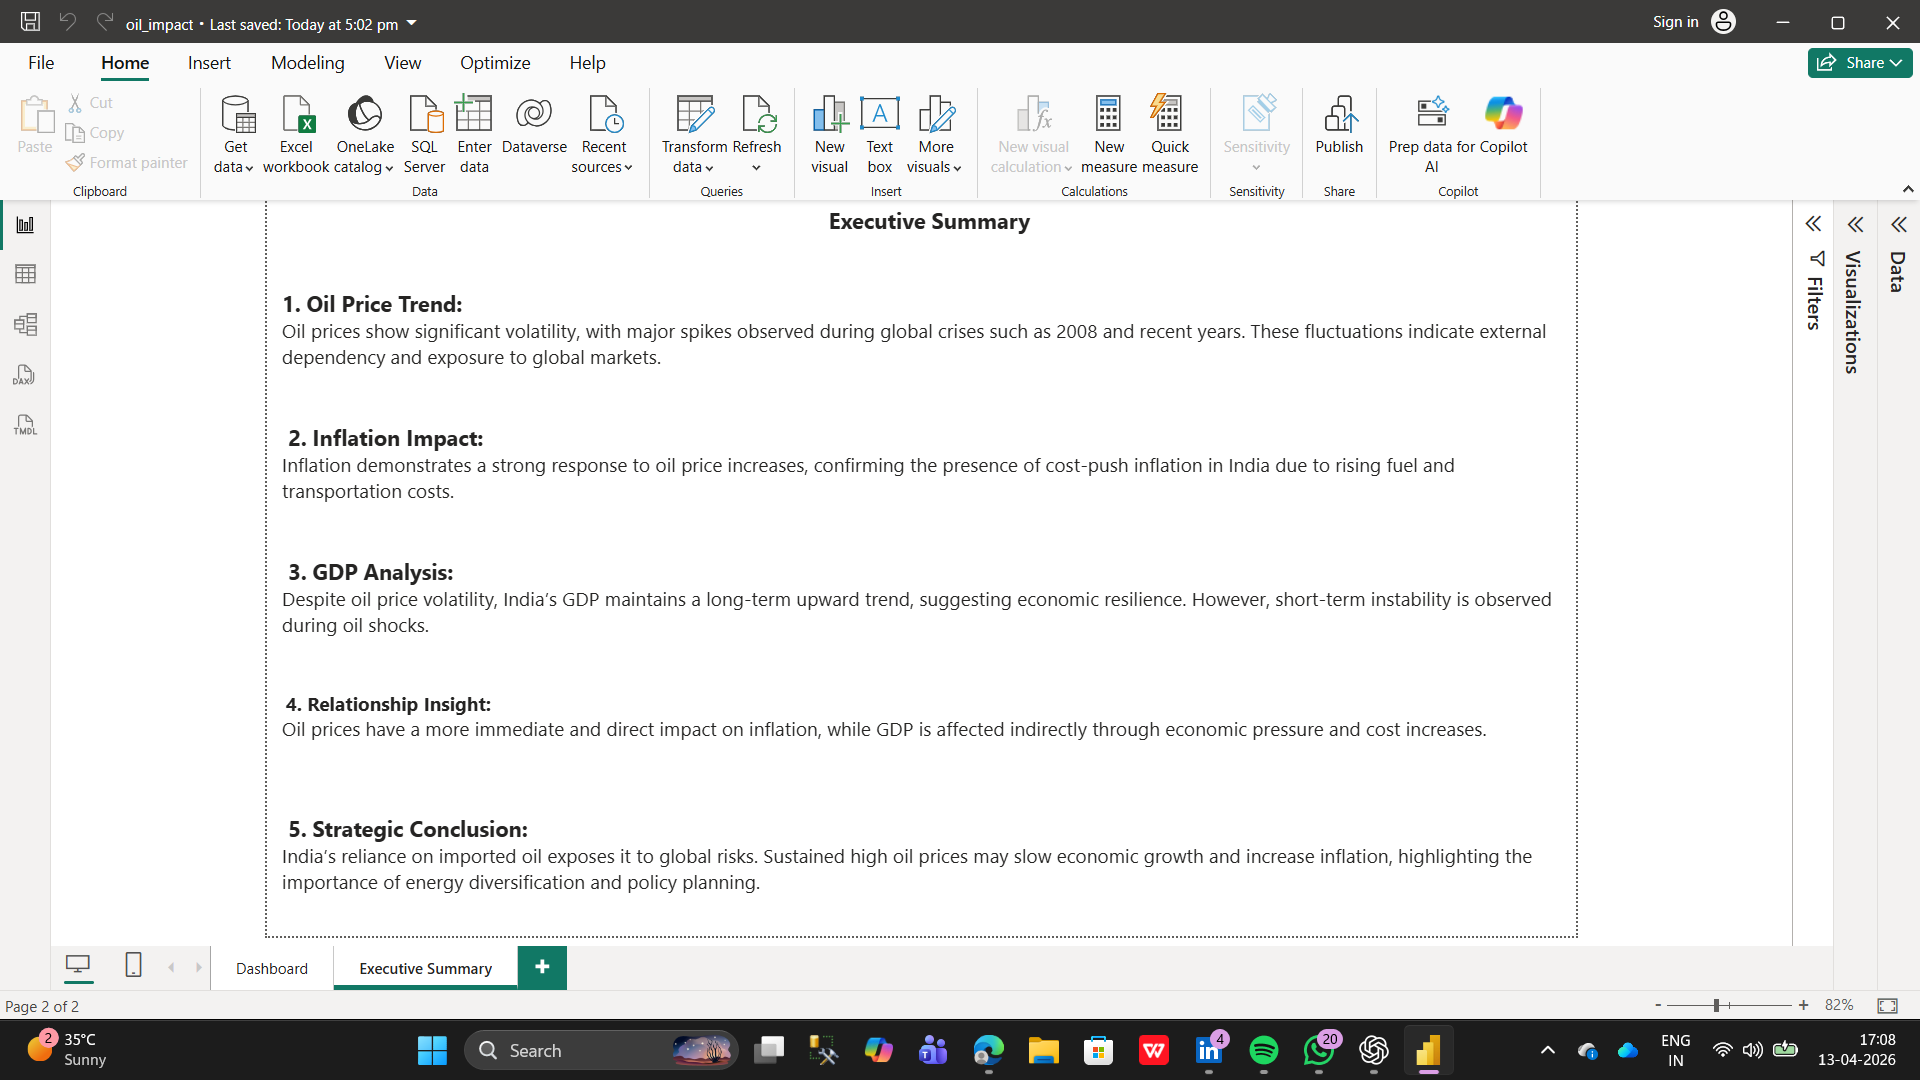

This screenshot's page, from the dashboard's own definition file:
{"tool":"powerbi","page":{"name":"Executive Summary","canvas":[1280,720],"ordinal":1},"visuals":[{"type":"textbox","box":[9.8,0,1270.5,720.2],"z":0}]}

Visuals, with their boxes on the page's 1280x720 design canvas (x1, y1, x2, y2). These are canvas units, not pixel positions in the 1920x1080 screenshot, which may show the page scaled, cropped or inside an application window:
textbox: x1=10 y1=0 x2=1280 y2=720
